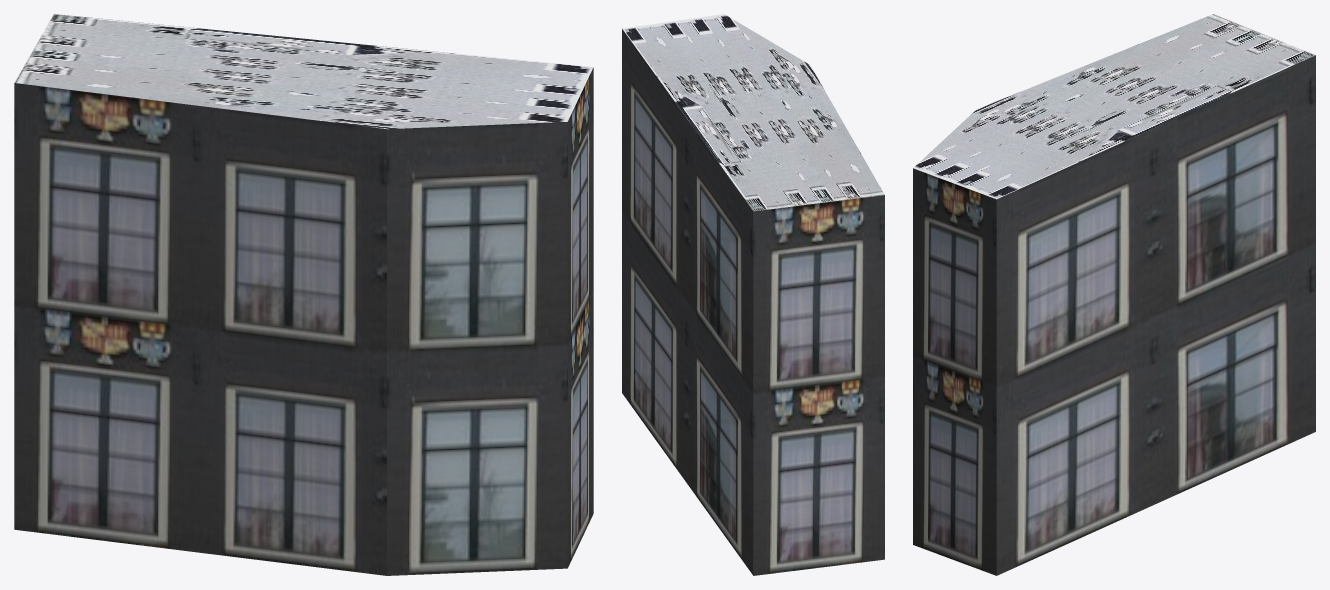
Rendered from ResTex__3301.fbx.
The picture shows the model from 3 angles, left to right: view 1: azimuth 30°, elevation 25°; view 2: azimuth 150°, elevation 25°; view 3: azimuth 270°, elevation 25°; orthographic projection. The views are drawn at different scales.
Visible parts, largest first — view 1: CityEngineMaterial_22_m, CityEngineMaterial_m; view 2: CityEngineMaterial_22_m, CityEngineMaterial_m; view 3: CityEngineMaterial_22_m, CityEngineMaterial_m.
Boxes of the visible parts, x1,y1,x2,y2 form: CityEngineMaterial_22_m: (14,67,593,575); CityEngineMaterial_m: (14,14,593,129); CityEngineMaterial_22_m: (622,29,884,575); CityEngineMaterial_m: (622,14,884,211); CityEngineMaterial_22_m: (913,55,1315,575); CityEngineMaterial_m: (913,14,1315,199).
Size of the model in its own units: 6.33 by 6 by 5.82.
Materials: 2 (2 with a texture image).
